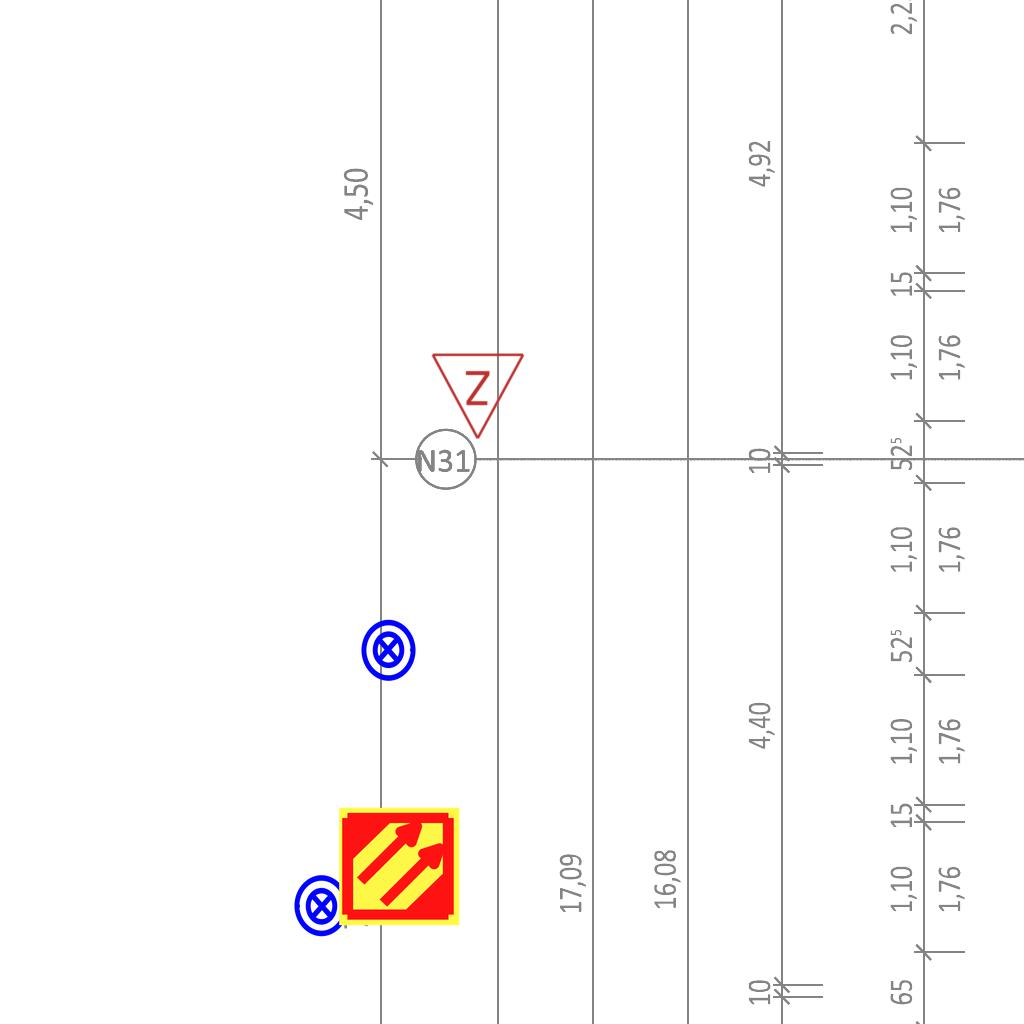ASR_Ansaugrauchmelder: (337, 804, 462, 929)
Taster_beleuchtet: (289, 873, 355, 939), (355, 617, 421, 683)
Zimmersignalleuchte: (430, 346, 528, 446)
